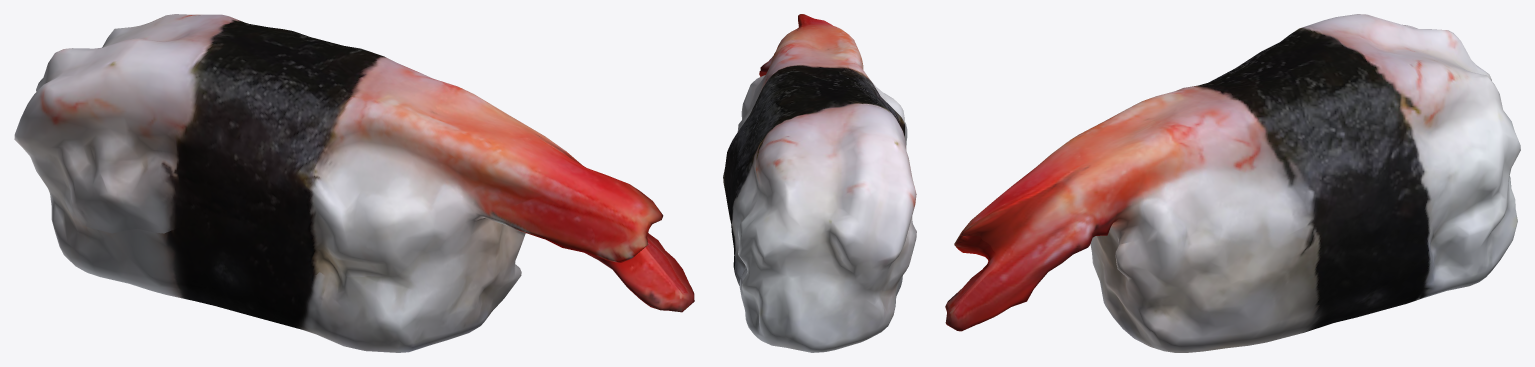
The model's file is Ebi.fbx.
3 renders of one model, left to right at view 1: azimuth 30°, elevation 25°; view 2: azimuth 150°, elevation 25°; view 3: azimuth 270°, elevation 25°, orthographic. The views are drawn at different scales.
Parts seen in each view (by area): view 1: ebi1; view 2: ebi1; view 3: ebi1.
Part boxes in pixels (<box>): ebi1: <box>14,14,694,352</box>; ebi1: <box>723,14,916,352</box>; ebi1: <box>945,14,1520,352</box>.
Bounding box in the file's own units: 5.25 × 3.16 × 6.77.
Materials: 1 (1 with a texture image).
